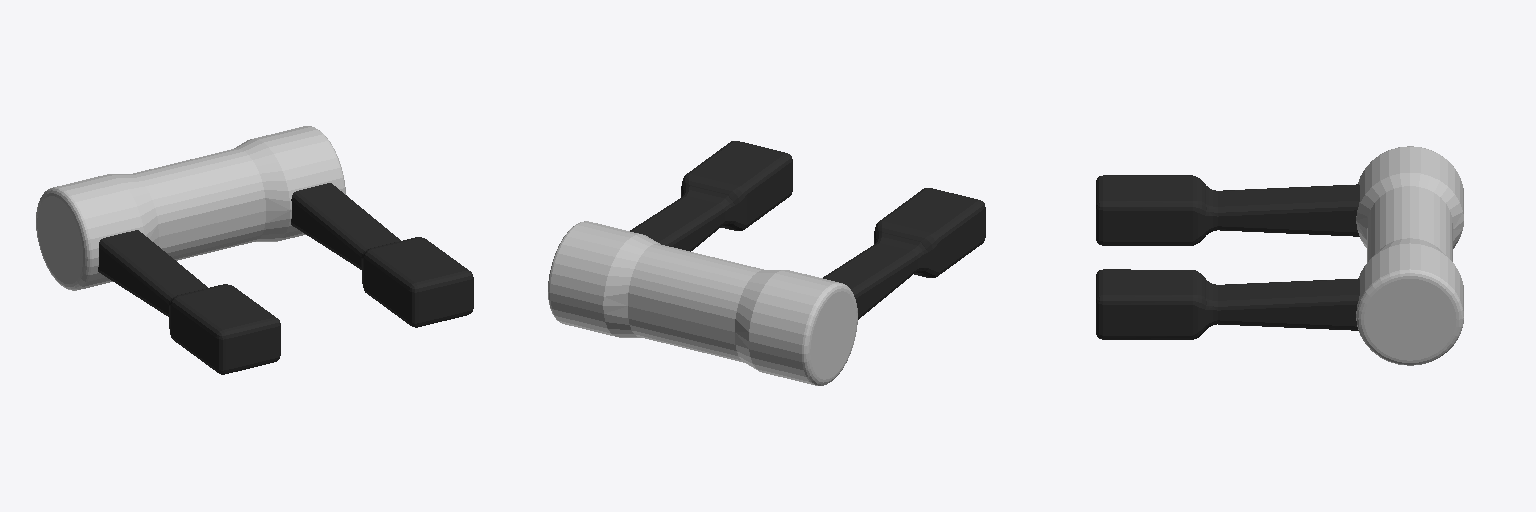
File: LeverLever.obj
3 renders of one model, left to right at view 1: azimuth 30°, elevation 25°; view 2: azimuth 150°, elevation 25°; view 3: azimuth 270°, elevation 25°, orthographic.
Parts seen in each view (by area): view 1: Cube.006_Cube.001; view 2: Cube.006_Cube.001; view 3: Cube.006_Cube.001.
Part boxes in pixels (left/top/right/bottom): Cube.006_Cube.001: left=36, top=126, right=473, bottom=374; Cube.006_Cube.001: left=548, top=141, right=985, bottom=385; Cube.006_Cube.001: left=1096, top=146, right=1463, bottom=365.
Bounding box in the file's own units: 0.2409 × 0.0847 × 0.2944.